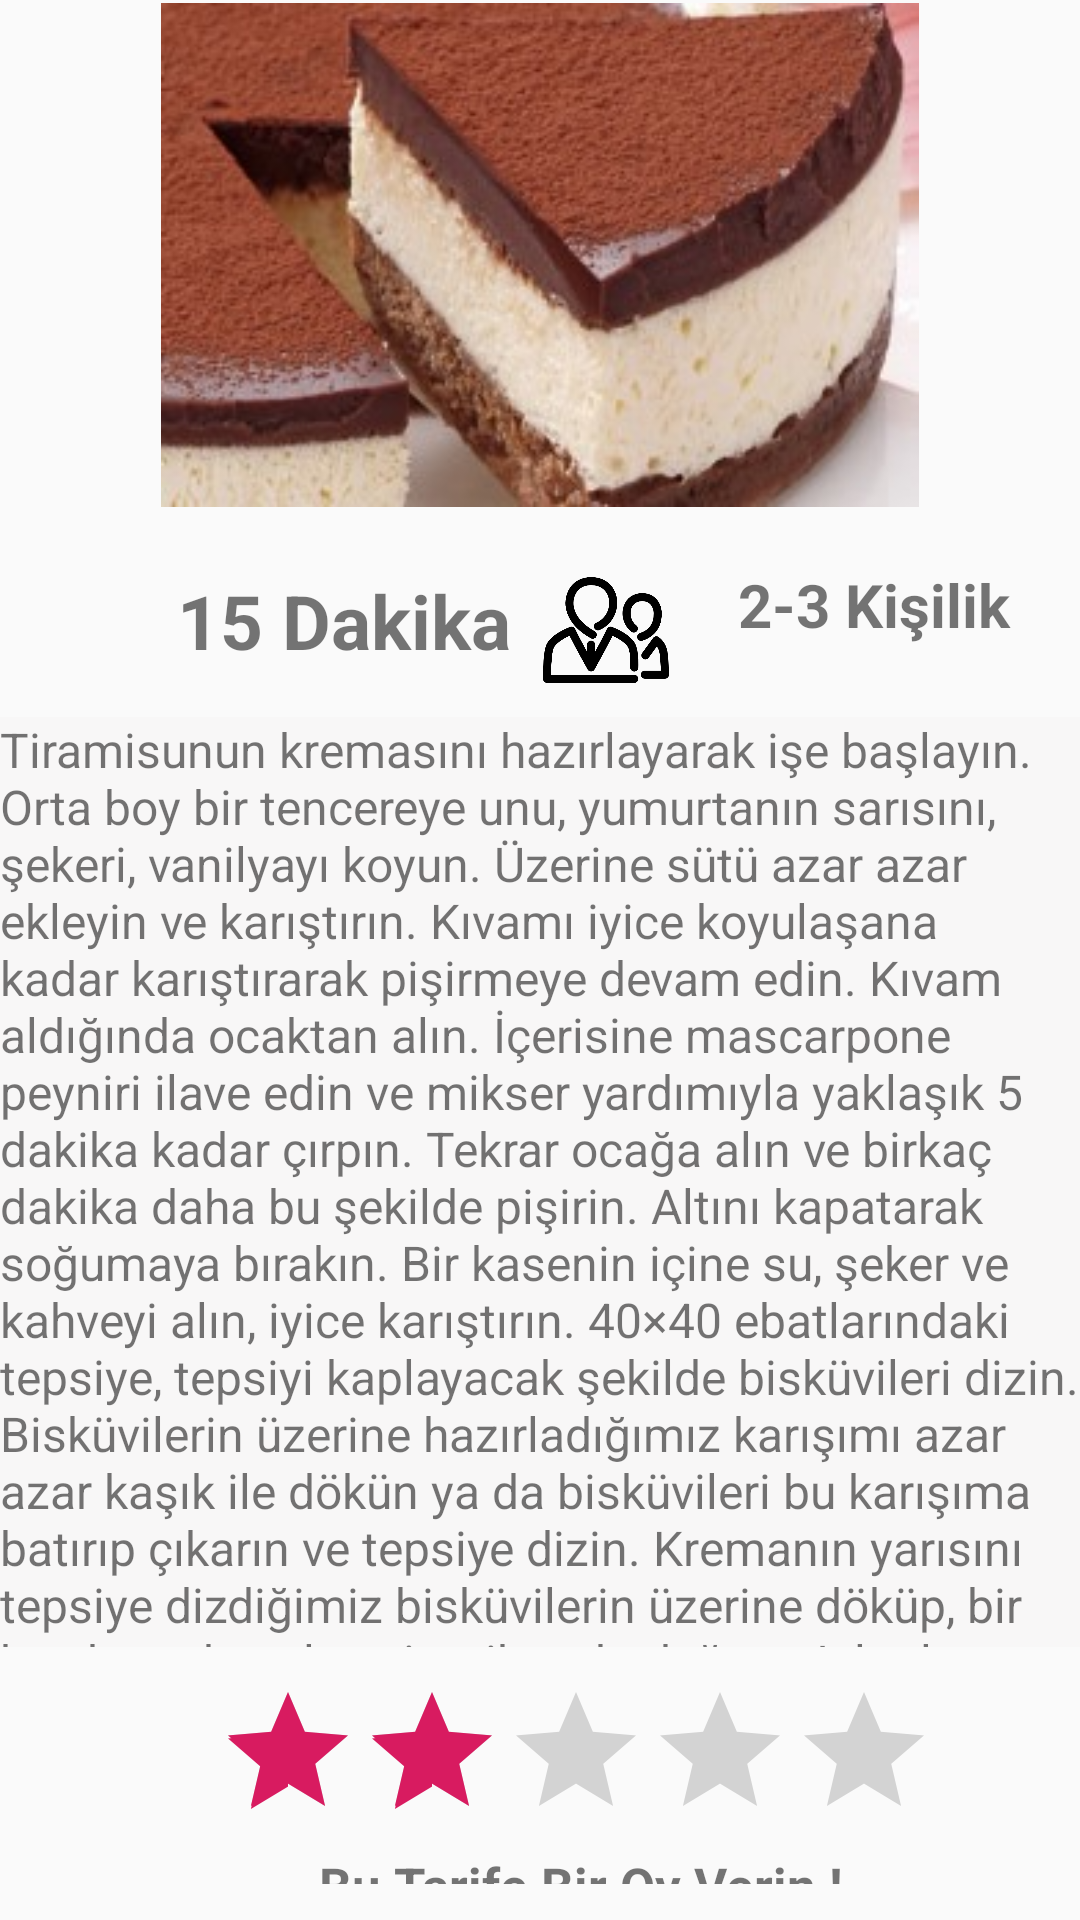

Screen size 1080 × 1920. Icon name, then its center in pixels as [x,y]:
personicon: [606,630]
